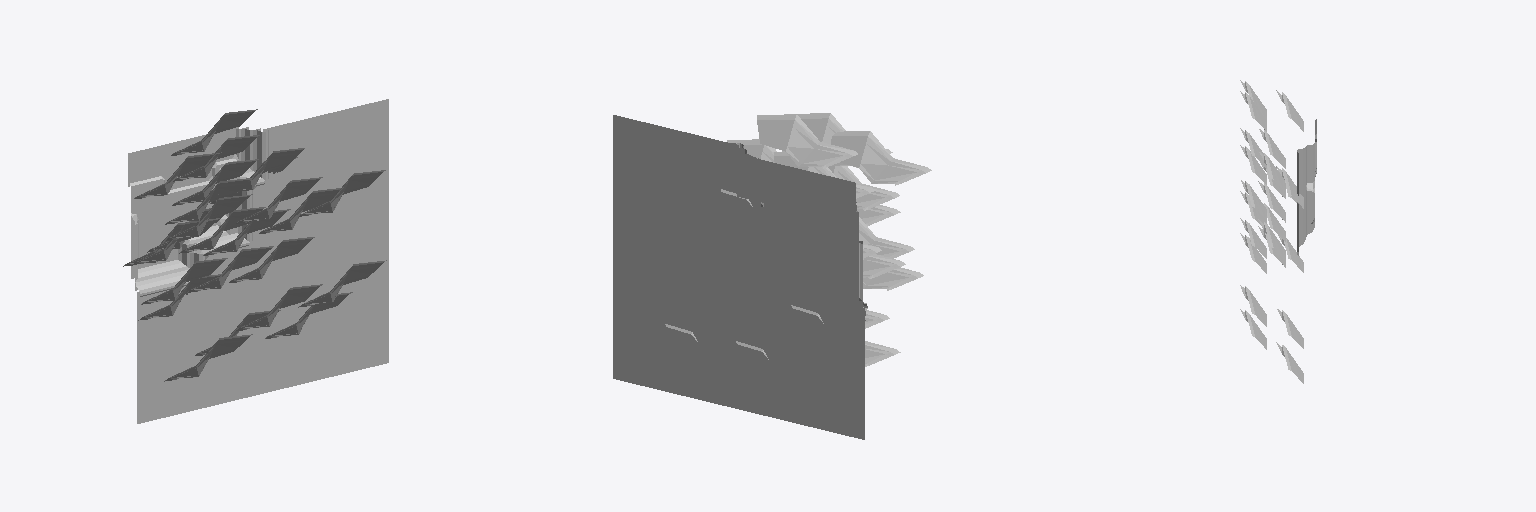
Rendered from Molten-Cave_02_02.obj.
3 views of the same model, side by side, from view 1: azimuth 30°, elevation 25°; view 2: azimuth 150°, elevation 25°; view 3: azimuth 270°, elevation 25° (orthographic).
Parts seen in each view (by area): view 1: map; view 2: map; view 3: map.
Boxes of the visible parts, box(x1,y1,x2,y2) form: map: box(123, 99, 388, 423); map: box(613, 113, 931, 439); map: box(1240, 80, 1316, 383).
Bounding box in the file's own units: 36.59 × 36.34 × 8.9.